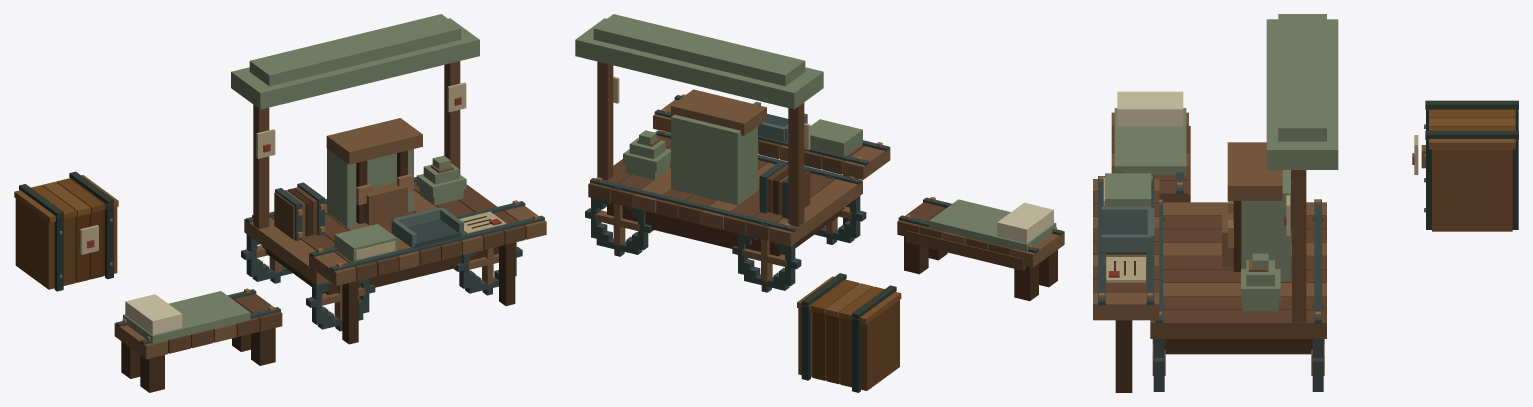
Rendered from B37_trader.glb.
3 views of the same model, side by side, from view 1: azimuth 30°, elevation 25°; view 2: azimuth 150°, elevation 25°; view 3: azimuth 270°, elevation 25° (orthographic). The views are drawn at different scales.
Visible parts, largest first — view 1: B37_trader__main_station_FoldedCanopy_cloth, B37_trader__spare_cargo_reuse_Prop_Crate_NW_01, B37_trader__main_station_TableTop_woodlight, B37_trader__main_station_TableTop_wood, B37_trader__main_station_Ring_iron, B37_trader__main_station_AwningPost_wood, B37_trader__main_station_Backpack_cloth, B37_trader__main_station_BagFlap_woodlight, B37_trader__rest_Blanket_cloth, B37_trader__rest_TableLegs_wooddark, B37_trader__main_station_CounterLeg_wooddark, B37_trader__rest_TableTop_wood (+17 smaller); view 2: B37_trader__main_station_FoldedCanopy_cloth, B37_trader__spare_cargo_reuse_Prop_Crate_NW_01, B37_trader__main_station_Backpack_cloth, B37_trader__main_station_TableTop_wood, B37_trader__main_station_TableTop_woodlight, B37_trader__main_station_Ring_iron, B37_trader__main_station_AwningPost_wood, B37_trader__rest_Blanket_cloth, B37_trader__main_station_BagFlap_woodlight, B37_trader__main_station_TableBands_iron, B37_trader__main_station_CartChassis_wooddark, B37_trader__rest_TableLegs_wooddark (+10 smaller); view 3: B37_trader__spare_cargo_reuse_Prop_Crate_NW_01, B37_trader__main_station_TableTop_wood, B37_trader__main_station_FoldedCanopy_cloth, B37_trader__main_station_TableTop_woodlight, B37_trader__rest_Blanket_cloth, B37_trader__main_station_Backpack_cloth, B37_trader__main_station_BagFlap_woodlight, B37_trader__main_station_TableBands_iron, B37_trader__rest_Cushion_bone, B37_trader__main_station_CartChassis_wooddark, B37_trader__main_station_AwningPost_wood, B37_trader__main_station_CanvasBag_cloth (+9 smaller).
Boxes of the visible parts, x1,y1,x2,y2 form: B37_trader__main_station_FoldedCanopy_cloth: (231,14,479,109); B37_trader__spare_cargo_reuse_Prop_Crate_NW_01: (14,171,118,291); B37_trader__main_station_TableTop_woodlight: (244,190,546,285); B37_trader__main_station_TableTop_wood: (272,182,525,280); B37_trader__main_station_Ring_iron: (241,216,522,331); B37_trader__main_station_AwningPost_wood: (253,61,460,229); B37_trader__main_station_Backpack_cloth: (327,148,413,227); B37_trader__main_station_BagFlap_woodlight: (326,118,422,164); B37_trader__rest_Blanket_cloth: (123,291,250,343); B37_trader__rest_TableLegs_wooddark: (121,328,275,392); B37_trader__main_station_CounterLeg_wooddark: (342,242,515,344); B37_trader__rest_TableTop_wood: (168,294,282,353); B37_trader__main_station_FoldedCanopy_cloth: (575,14,823,109); B37_trader__spare_cargo_reuse_Prop_Crate_NW_01: (797,273,901,392); B37_trader__main_station_Backpack_cloth: (671,114,757,205); B37_trader__main_station_TableTop_wood: (588,135,864,240); B37_trader__main_station_TableTop_woodlight: (633,99,890,246); B37_trader__main_station_Ring_iron: (585,175,866,292); B37_trader__main_station_AwningPost_wood: (597,61,804,226); B37_trader__rest_Blanket_cloth: (929,199,1056,251); B37_trader__main_station_BagFlap_woodlight: (671,89,766,135); B37_trader__main_station_TableBands_iron: (590,95,888,232); B37_trader__main_station_CartChassis_wooddark: (607,202,844,256); B37_trader__rest_TableLegs_wooddark: (904,236,1057,301); B37_trader__spare_cargo_reuse_Prop_Crate_NW_01: (1421,100,1518,231); B37_trader__main_station_TableTop_wood: (1093,191,1326,338); B37_trader__main_station_FoldedCanopy_cloth: (1266,14,1338,169); B37_trader__main_station_TableTop_woodlight: (1093,179,1326,320); B37_trader__rest_Blanket_cloth: (1114,108,1186,175); B37_trader__main_station_Backpack_cloth: (1241,170,1290,281); B37_trader__main_station_BagFlap_woodlight: (1227,142,1282,200); B37_trader__main_station_TableBands_iron: (1098,176,1321,323); B37_trader__rest_Cushion_bone: (1117,91,1183,126); B37_trader__main_station_CartChassis_wooddark: (1164,339,1312,354); B37_trader__main_station_AwningPost_wood: (1292,170,1306,322); B37_trader__main_station_CanvasBag_cloth: (1241,253,1280,311).
Size of the model in its own units: 5.07 by 2.73 by 3.86.
